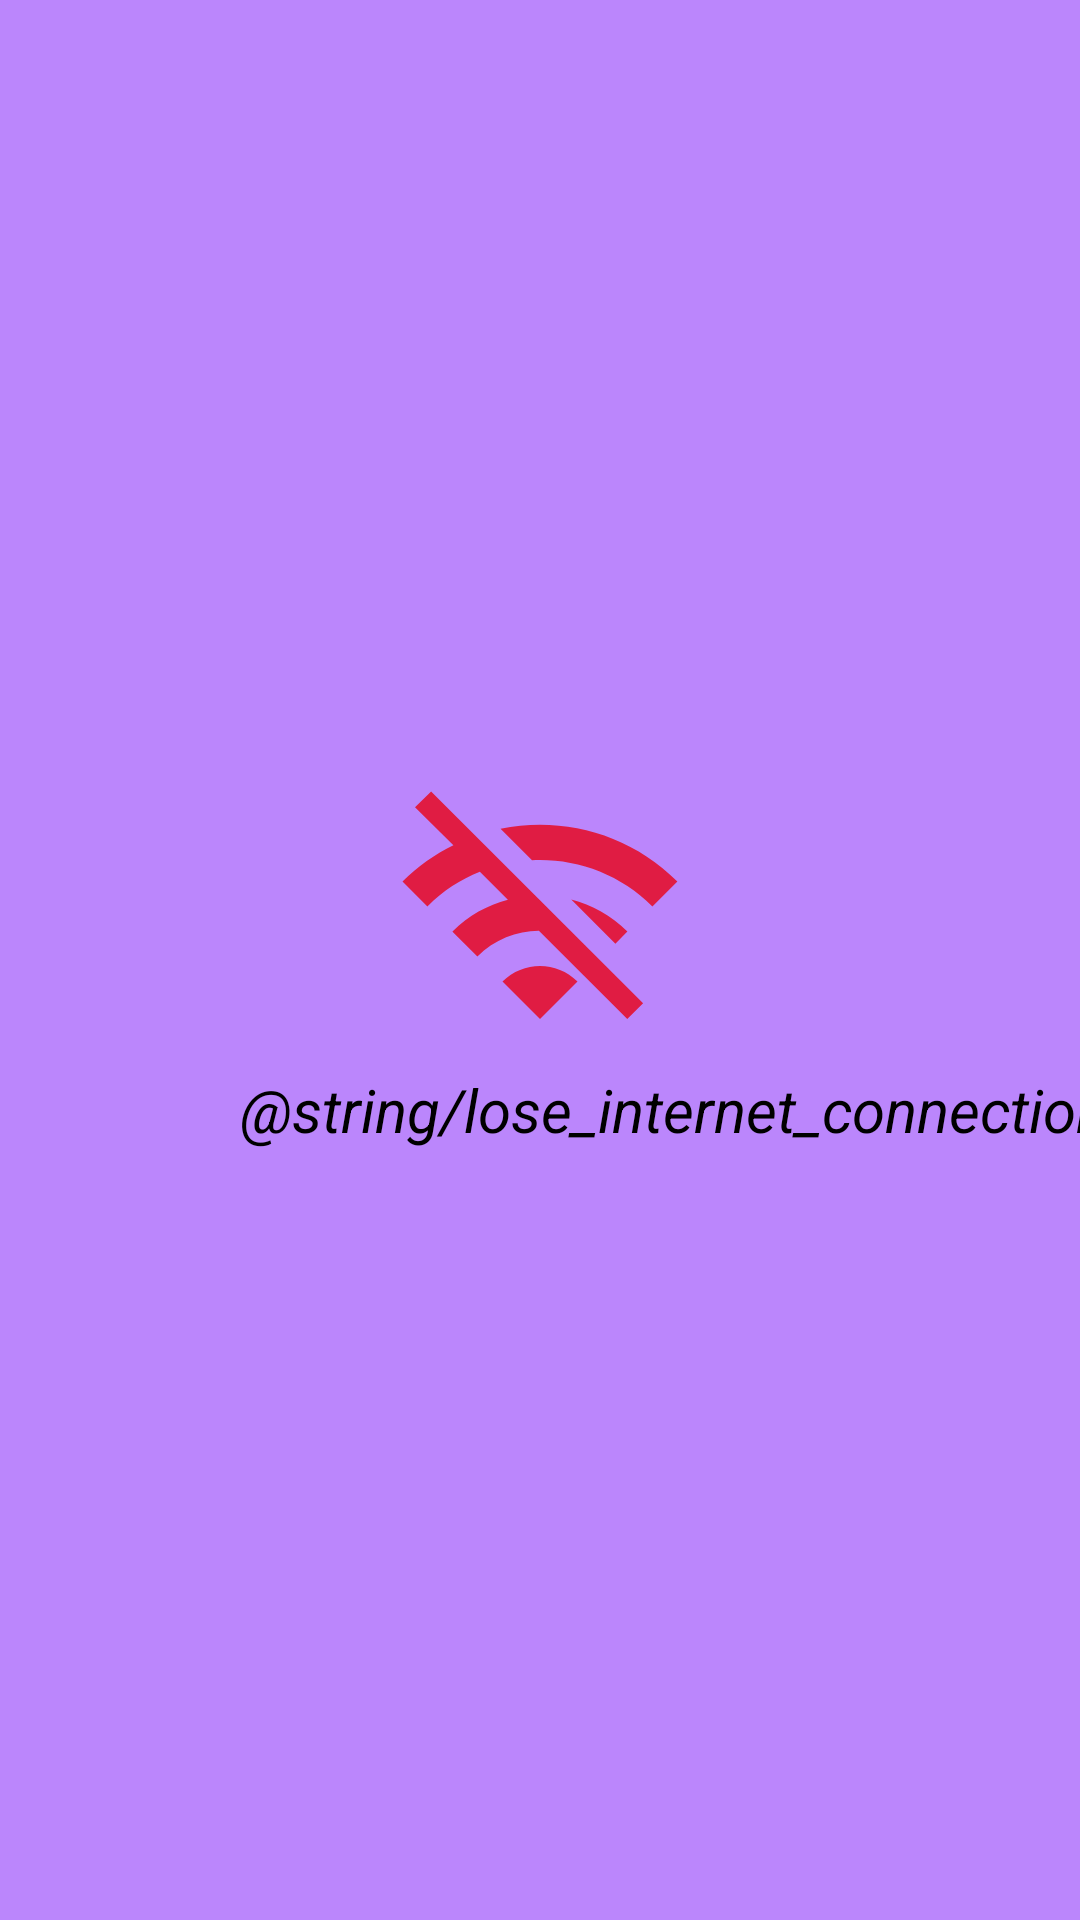

Icons on this 1080px x 1920px Android screen, each with the point to tap as [x,y]:
wifi off: [539,905]
